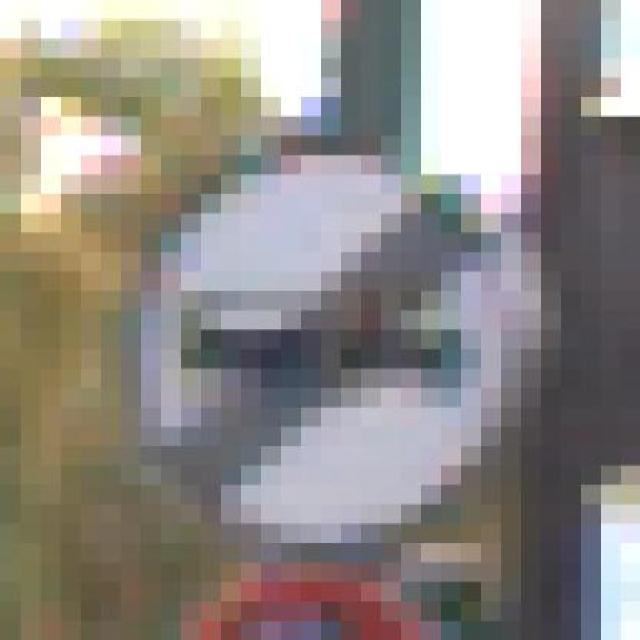No_Over_Taking: (80, 58, 560, 562)
